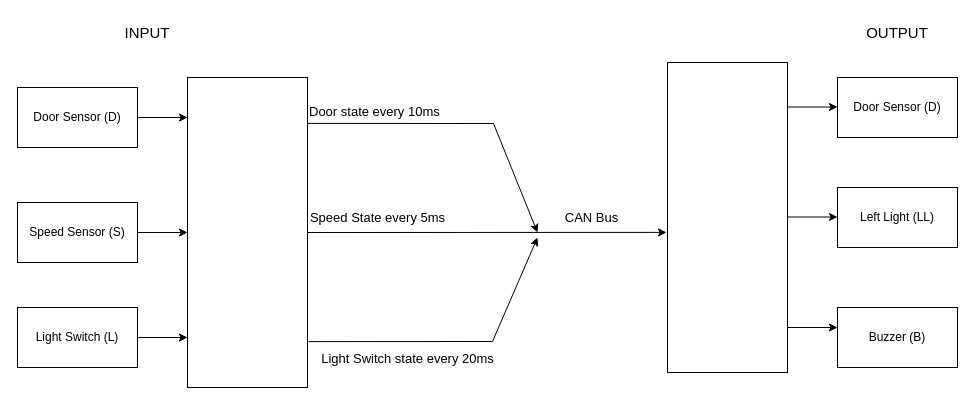
Image size: 975x405. Some labels were removed from this diagram. The shapes that lost their labels are listed below. From the top down, each one's centre as x and y in pixels, then its label:
At (247,232): "ECU1".
At (727,217): "ECU2".
